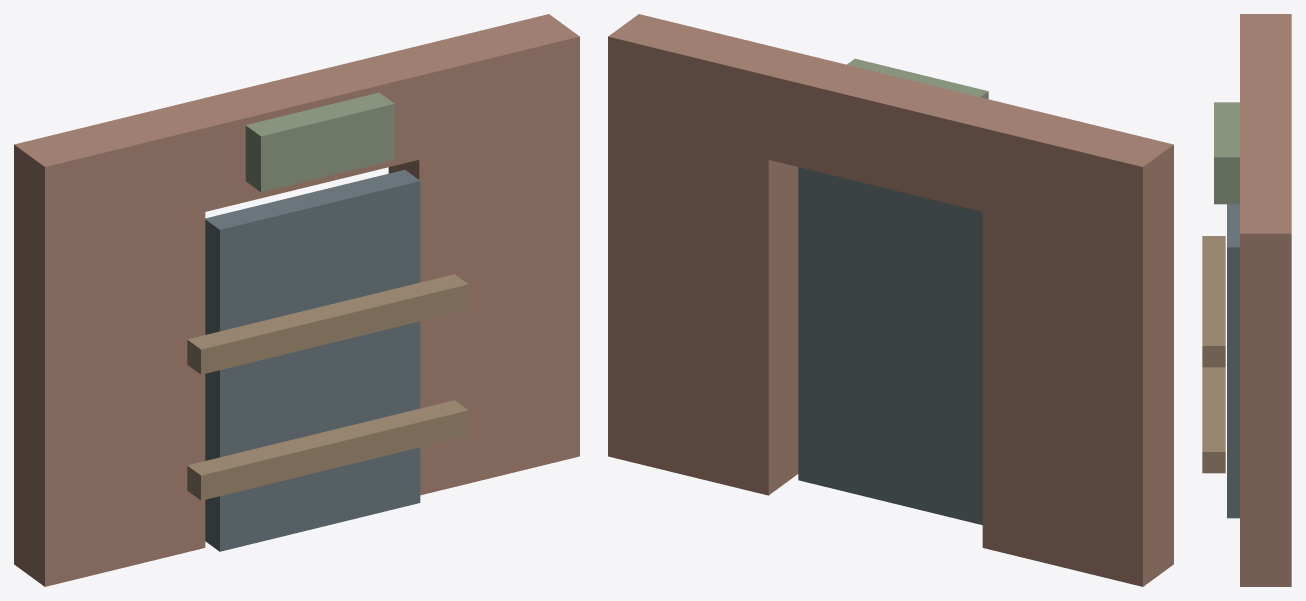
Rendered from three-d-zombie-quarantine-streets-zombie-quarantine-streets-safehouse-facade-5816ebe2.glb.
3 renders of one model, left to right at view 1: azimuth 30°, elevation 25°; view 2: azimuth 150°, elevation 25°; view 3: azimuth 270°, elevation 25°, orthographic. The views are drawn at different scales.
Visible parts, largest first — view 1: safehouse-facade; view 2: safehouse-facade; view 3: safehouse-facade.
Boxes of the visible parts, x1,y1,x2,y2 form: safehouse-facade: (14,14,579,586); safehouse-facade: (608,14,1173,586); safehouse-facade: (1202,14,1291,586).
Size of the model in its own units: 4 by 3 by 0.6899.
